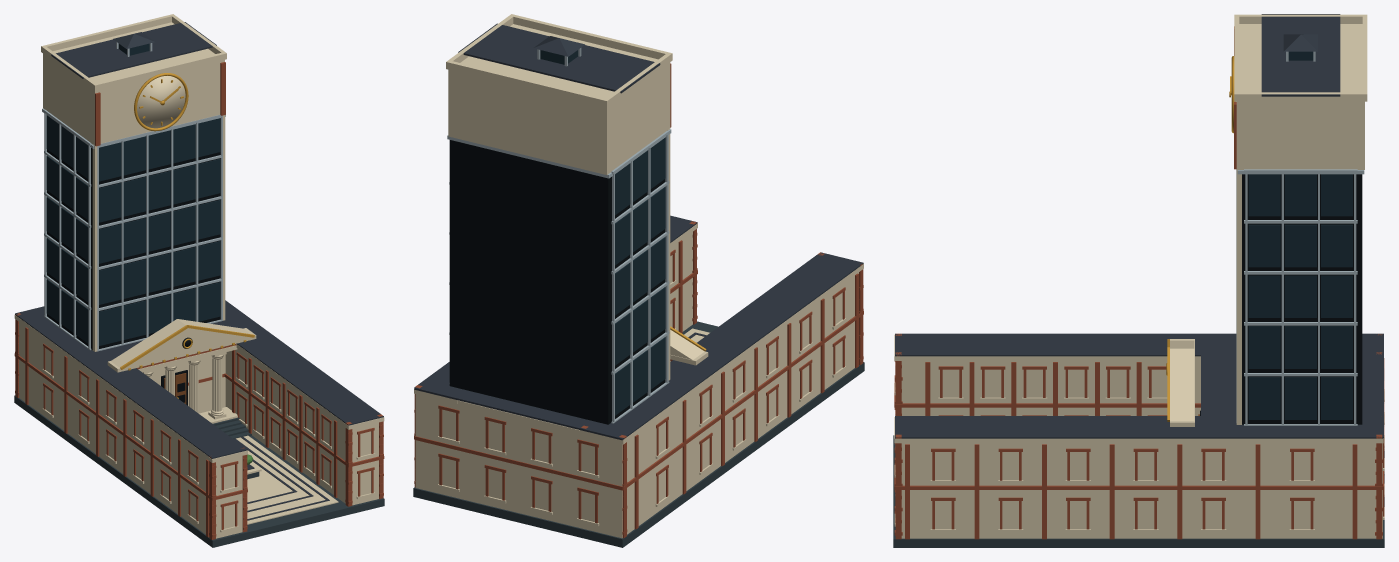
File: stock-exchange.glb
3 renders of one model, left to right at view 1: azimuth 30°, elevation 25°; view 2: azimuth 150°, elevation 25°; view 3: azimuth 270°, elevation 25°, orthographic. The views are drawn at different scales.
Visible parts, largest first — view 1: SX_SHAFT_DRAW_02_SX_DARK_GLASS, SX_PODIUM_DRAW_01_SX_CREAM_RENDER, SX_CROWN_DRAW_01_SX_CREAM_RENDER, SX_PODIUM_DRAW_03_SX_SLATE_ROOF, SX_SHAFT_DRAW_04_SX_SILVER_MULLION, SX_PODIUM_DRAW_02_SX_DEEP_BRICK, SX_COLONNADE_DRAW_02_SX_CREAM_RENDER, SX_OPENINGS_DRAW_05_SX_DEEP_BRICK, SX_FOUNDATION_DRAW_01_SX_BLUESTONE_PLINTH, SX_CROWN_DRAW_06_SX_SLATE_ROOF, SX_SHAFT_DRAW_03_SX_DARK_INTERIOR, SX_COURT_DRAW_02_SX_CREAM_RENDER (+7 smaller); view 2: SX_SHAFT_DRAW_03_SX_DARK_INTERIOR, SX_PODIUM_DRAW_01_SX_CREAM_RENDER, SX_CROWN_DRAW_01_SX_CREAM_RENDER, SX_PODIUM_DRAW_03_SX_SLATE_ROOF, SX_SHAFT_DRAW_02_SX_DARK_GLASS, SX_PODIUM_DRAW_02_SX_DEEP_BRICK, SX_CROWN_DRAW_06_SX_SLATE_ROOF, SX_SHAFT_DRAW_04_SX_SILVER_MULLION, SX_OPENINGS_DRAW_05_SX_DEEP_BRICK, SX_FOUNDATION_DRAW_01_SX_BLUESTONE_PLINTH, SX_OPENINGS_DRAW_02_SX_CREAM_RENDER, SX_COLONNADE_DRAW_02_SX_CREAM_RENDER (+1 smaller); view 3: SX_PODIUM_DRAW_01_SX_CREAM_RENDER, SX_PODIUM_DRAW_03_SX_SLATE_ROOF, SX_SHAFT_DRAW_02_SX_DARK_GLASS, SX_CROWN_DRAW_01_SX_CREAM_RENDER, SX_PODIUM_DRAW_02_SX_DEEP_BRICK, SX_SHAFT_DRAW_03_SX_DARK_INTERIOR, SX_CROWN_DRAW_06_SX_SLATE_ROOF, SX_SHAFT_DRAW_04_SX_SILVER_MULLION, SX_OPENINGS_DRAW_05_SX_DEEP_BRICK, SX_FOUNDATION_DRAW_01_SX_BLUESTONE_PLINTH, SX_COLONNADE_DRAW_02_SX_CREAM_RENDER, SX_OPENINGS_DRAW_02_SX_CREAM_RENDER (+1 smaller).
Part boxes in pixels (<box>): SX_SHAFT_DRAW_02_SX_DARK_GLASS: <box>46,115,220,345</box>; SX_PODIUM_DRAW_01_SX_CREAM_RENDER: <box>14,315,384,538</box>; SX_CROWN_DRAW_01_SX_CREAM_RENDER: <box>41,14,226,144</box>; SX_PODIUM_DRAW_03_SX_SLATE_ROOF: <box>15,300,383,458</box>; SX_SHAFT_DRAW_04_SX_SILVER_MULLION: <box>42,108,225,351</box>; SX_PODIUM_DRAW_02_SX_DEEP_BRICK: <box>14,313,384,539</box>; SX_COLONNADE_DRAW_02_SX_CREAM_RENDER: <box>107,319,256,423</box>; SX_OPENINGS_DRAW_05_SX_DEEP_BRICK: <box>43,343,374,529</box>; SX_FOUNDATION_DRAW_01_SX_BLUESTONE_PLINTH: <box>14,395,384,547</box>; SX_CROWN_DRAW_06_SX_SLATE_ROOF: <box>51,22,216,78</box>; SX_SHAFT_DRAW_03_SX_DARK_INTERIOR: <box>47,118,220,349</box>; SX_COURT_DRAW_02_SX_CREAM_RENDER: <box>236,435,338,524</box>; SX_SHAFT_DRAW_03_SX_DARK_INTERIOR: <box>449,140,665,424</box>; SX_PODIUM_DRAW_01_SX_CREAM_RENDER: <box>414,223,863,538</box>; SX_CROWN_DRAW_01_SX_CREAM_RENDER: <box>446,14,672,174</box>; SX_PODIUM_DRAW_03_SX_SLATE_ROOF: <box>414,215,863,440</box>; SX_SHAFT_DRAW_02_SX_DARK_GLASS: <box>615,137,665,415</box>; SX_PODIUM_DRAW_02_SX_DEEP_BRICK: <box>414,221,863,538</box>; SX_CROWN_DRAW_06_SX_SLATE_ROOF: <box>458,23,660,93</box>; SX_SHAFT_DRAW_04_SX_SILVER_MULLION: <box>447,129,671,423</box>; SX_OPENINGS_DRAW_05_SX_DEEP_BRICK: <box>438,249,845,523</box>; SX_FOUNDATION_DRAW_01_SX_BLUESTONE_PLINTH: <box>413,321,864,547</box>; SX_OPENINGS_DRAW_02_SX_CREAM_RENDER: <box>437,280,846,526</box>; SX_COLONNADE_DRAW_02_SX_CREAM_RENDER: <box>670,330,708,365</box>; SX_PODIUM_DRAW_01_SX_CREAM_RENDER: <box>894,334,1383,538</box>; SX_PODIUM_DRAW_03_SX_SLATE_ROOF: <box>895,333,1383,438</box>; SX_SHAFT_DRAW_02_SX_DARK_GLASS: <box>1248,174,1352,419</box>; SX_CROWN_DRAW_01_SX_CREAM_RENDER: <box>1234,14,1367,169</box>; SX_PODIUM_DRAW_02_SX_DEEP_BRICK: <box>894,333,1383,539</box>; SX_SHAFT_DRAW_03_SX_DARK_INTERIOR: <box>1242,174,1362,424</box>; SX_CROWN_DRAW_06_SX_SLATE_ROOF: <box>1261,14,1340,96</box>; SX_SHAFT_DRAW_04_SX_SILVER_MULLION: <box>1236,169,1364,425</box>; SX_OPENINGS_DRAW_05_SX_DEEP_BRICK: <box>895,358,1384,529</box>; SX_FOUNDATION_DRAW_01_SX_BLUESTONE_PLINTH: <box>893,435,1384,547</box>; SX_COLONNADE_DRAW_02_SX_CREAM_RENDER: <box>1170,339,1194,426</box>; SX_OPENINGS_DRAW_02_SX_CREAM_RENDER: <box>894,382,1384,531</box>.
Size of the model in its own units: 14 by 29 by 28.
